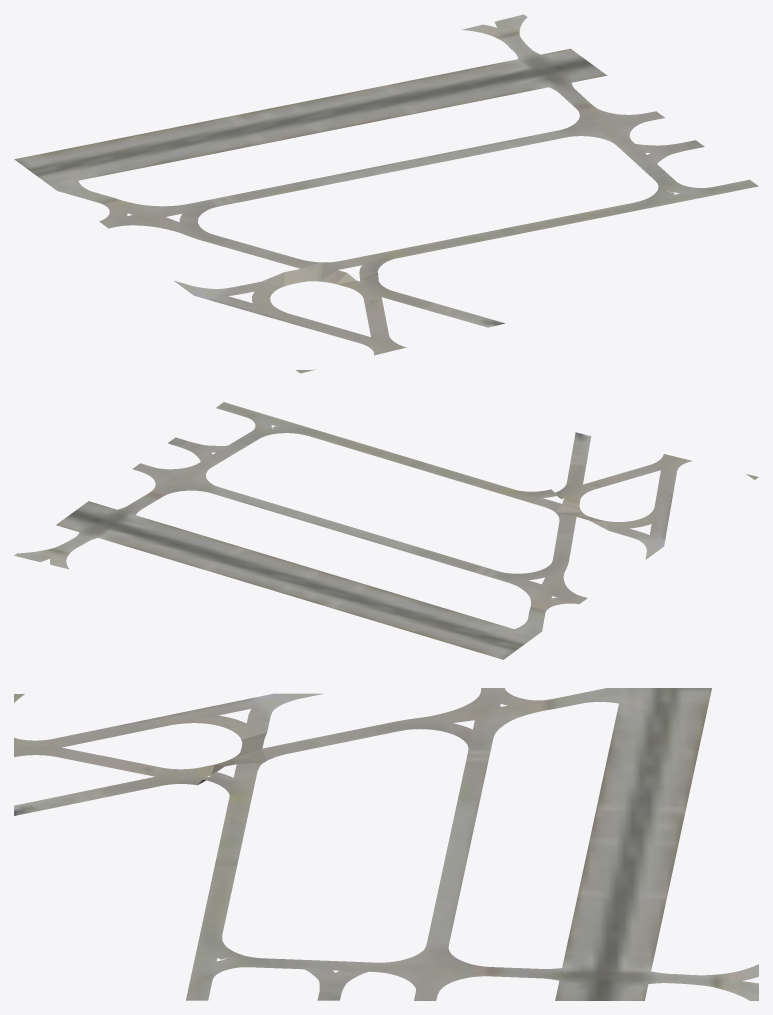
Rendered from LSZH_1_-1.glb.
The picture shows the model from 3 angles, top to bottom: view 1: azimuth 30°, elevation 25°; view 2: azimuth 150°, elevation 25°; view 3: azimuth 270°, elevation 25°; orthographic projection. The views are drawn at different scales.
Visible parts, largest first — view 1: pavement_LSZH_pavement_5368_2513; view 2: pavement_LSZH_pavement_5368_2513; view 3: pavement_LSZH_pavement_5368_2513.
Part boxes in pixels (x1=…): pavement_LSZH_pavement_5368_2513: x1=14, y1=14, x2=758, y2=373; pavement_LSZH_pavement_5368_2513: x1=14, y1=402, x2=758, y2=659; pavement_LSZH_pavement_5368_2513: x1=14, y1=688, x2=758, y2=1000.
Bounding box in the file's own units: 500 × 5.87 × 500.
Materials: 1 (1 with a texture image).
